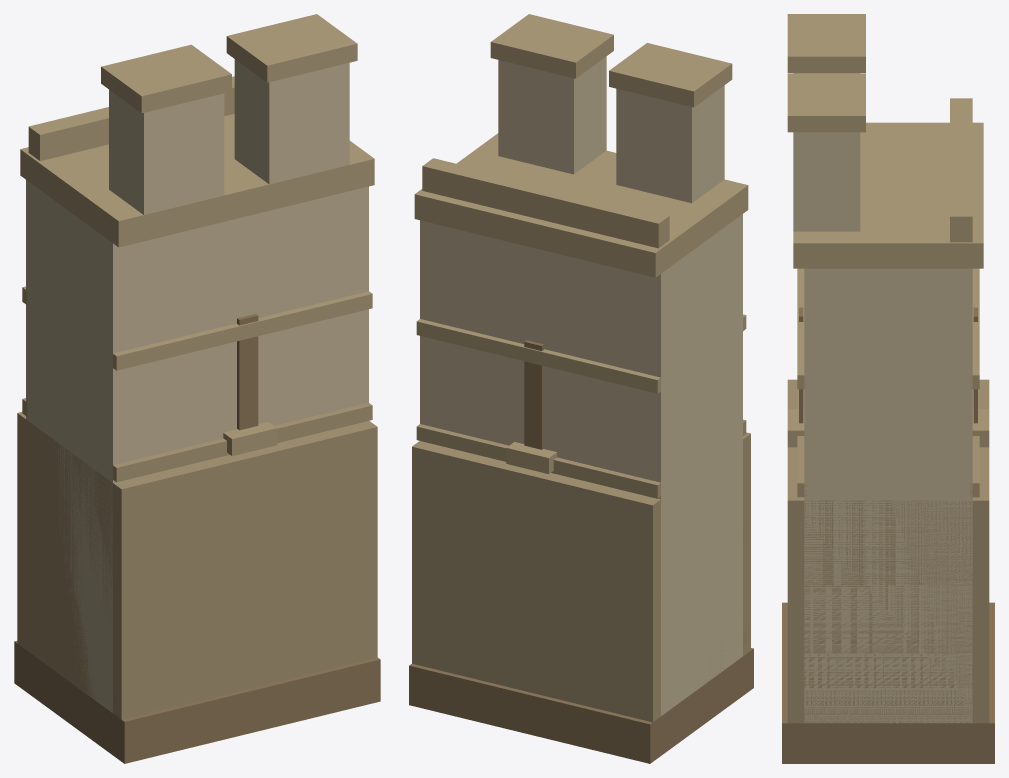
File: wall_t2_seg.glb
The picture shows the model from 3 angles, left to right: view 1: azimuth 30°, elevation 25°; view 2: azimuth 150°, elevation 25°; view 3: azimuth 270°, elevation 25°; orthographic projection. The views are drawn at different scales.
Parts seen in each view (by area): view 1: body; view 2: body; view 3: body.
Boxes of the visible parts, bbox=[...] form: body: bbox=[14, 14, 380, 763]; body: bbox=[409, 14, 753, 763]; body: bbox=[782, 14, 994, 763].
Size of the model in its own units: 1.02 by 2.52 by 0.76.
